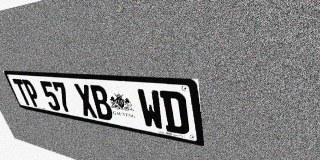5: (39, 81, 62, 112)
7: (51, 82, 75, 114)
B: (88, 85, 115, 121)
D: (159, 90, 190, 136)
P: (21, 79, 43, 108)
T: (12, 79, 33, 106)
W: (136, 88, 165, 131)
X: (73, 83, 98, 118)
